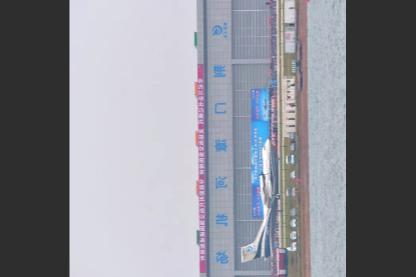AG600: (241, 136, 280, 260)
